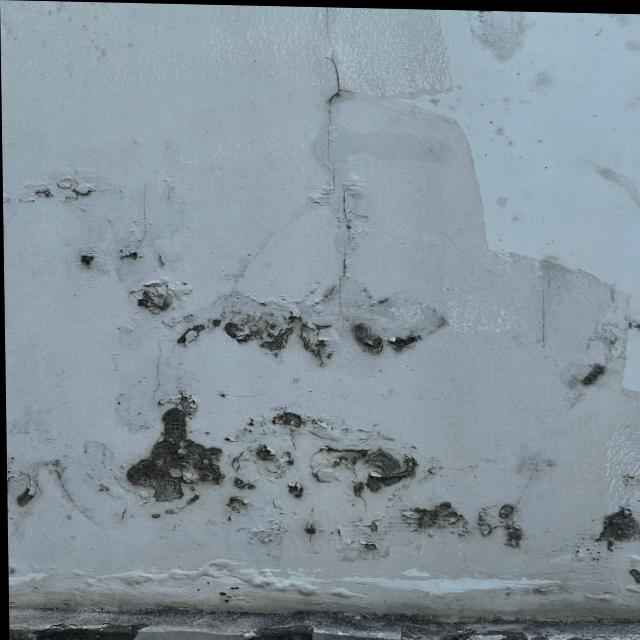crack: (314, 9, 361, 249)
hollowing: (12, 545, 368, 614)
spalling: (107, 382, 545, 554), (75, 244, 458, 373), (2, 168, 117, 223), (7, 453, 69, 519), (586, 507, 640, 556)
